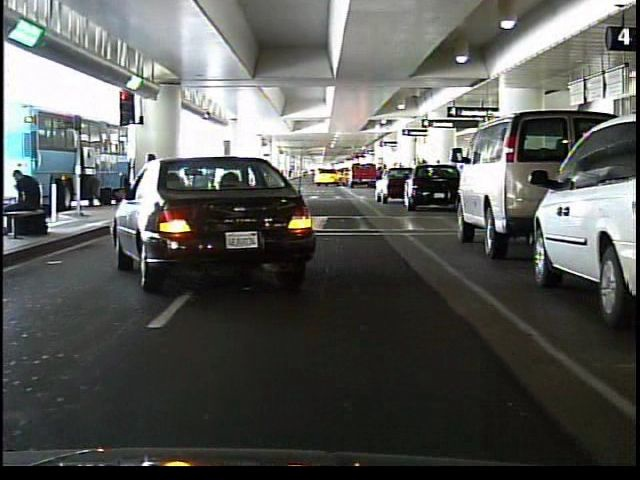person: (7, 165, 46, 243)
